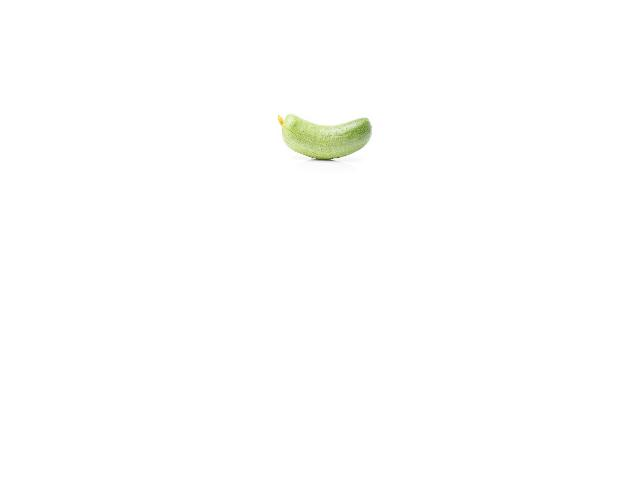cucumber: (277, 113, 372, 160)
